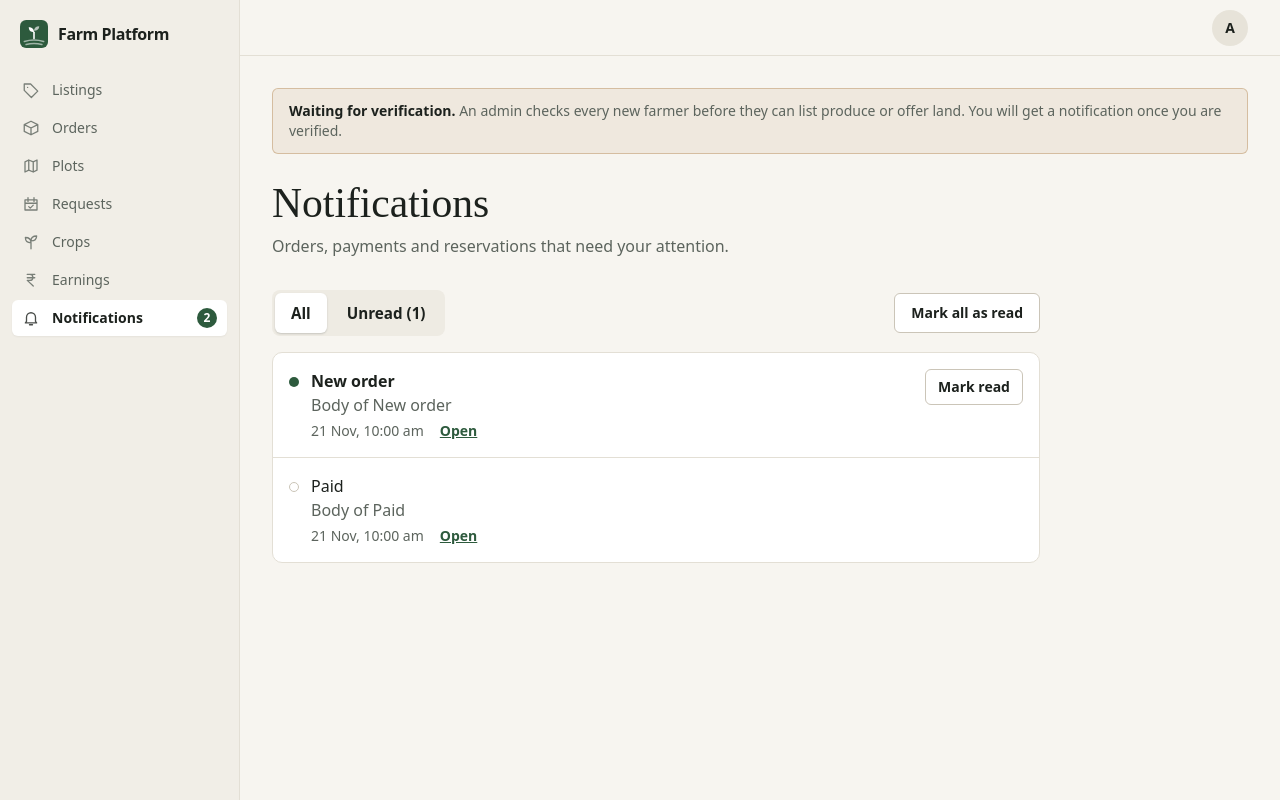
Test: notifications inbox › marks unread items, marks one as read, and shows the badge
Click the button "Mark read" at (974, 387), box [925,369,1023,405]
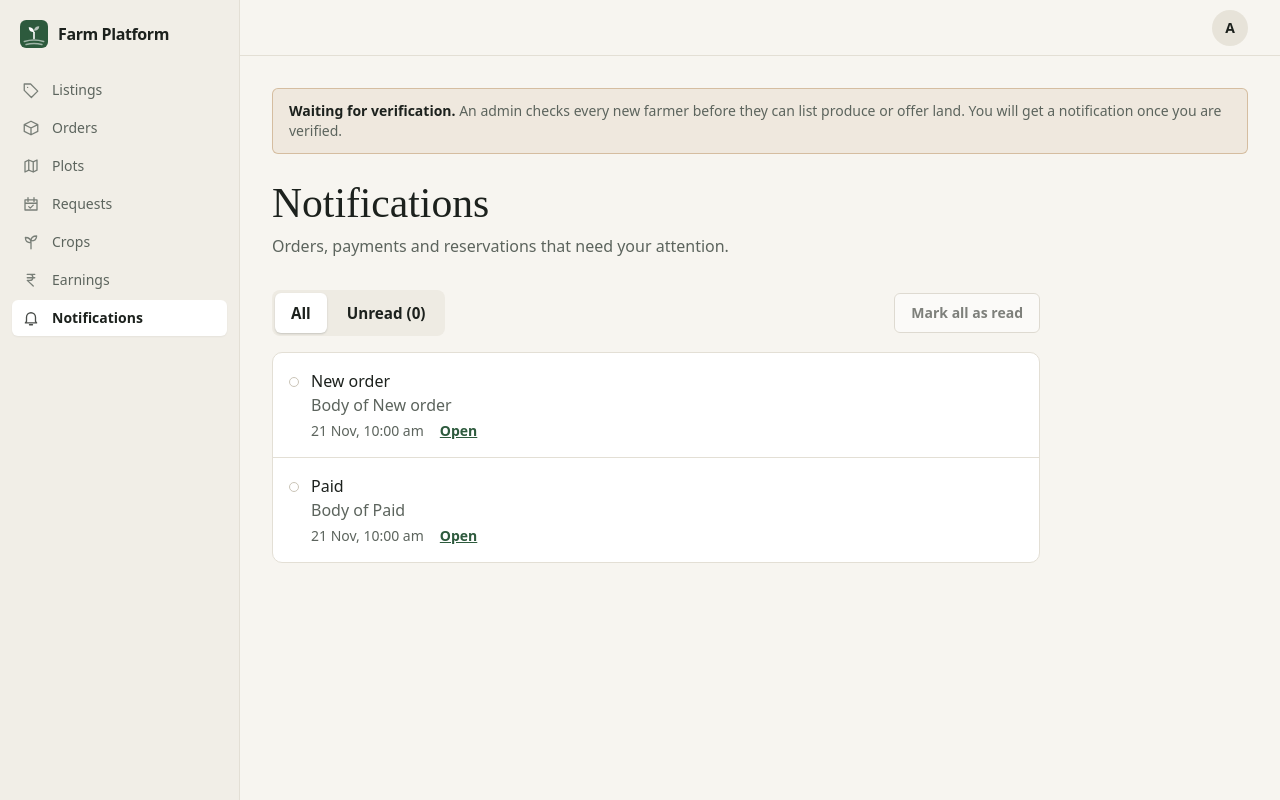
Check: the button "Mark read" is gone
